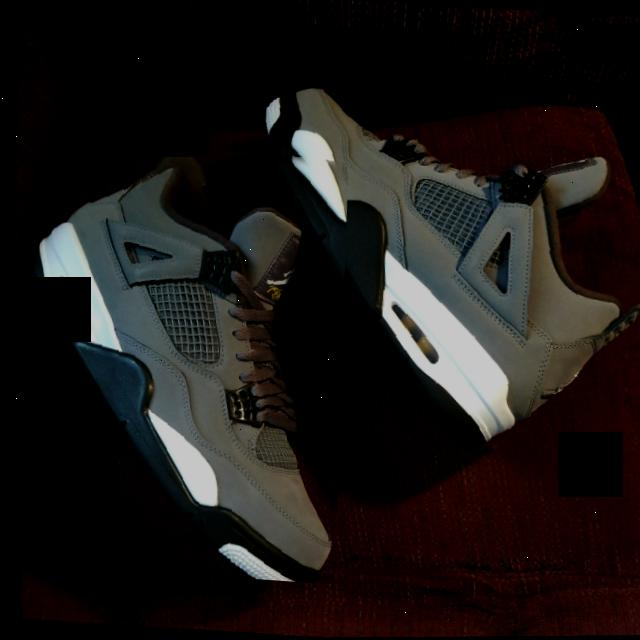shoe: (4, 122, 360, 586), (240, 81, 640, 470)
